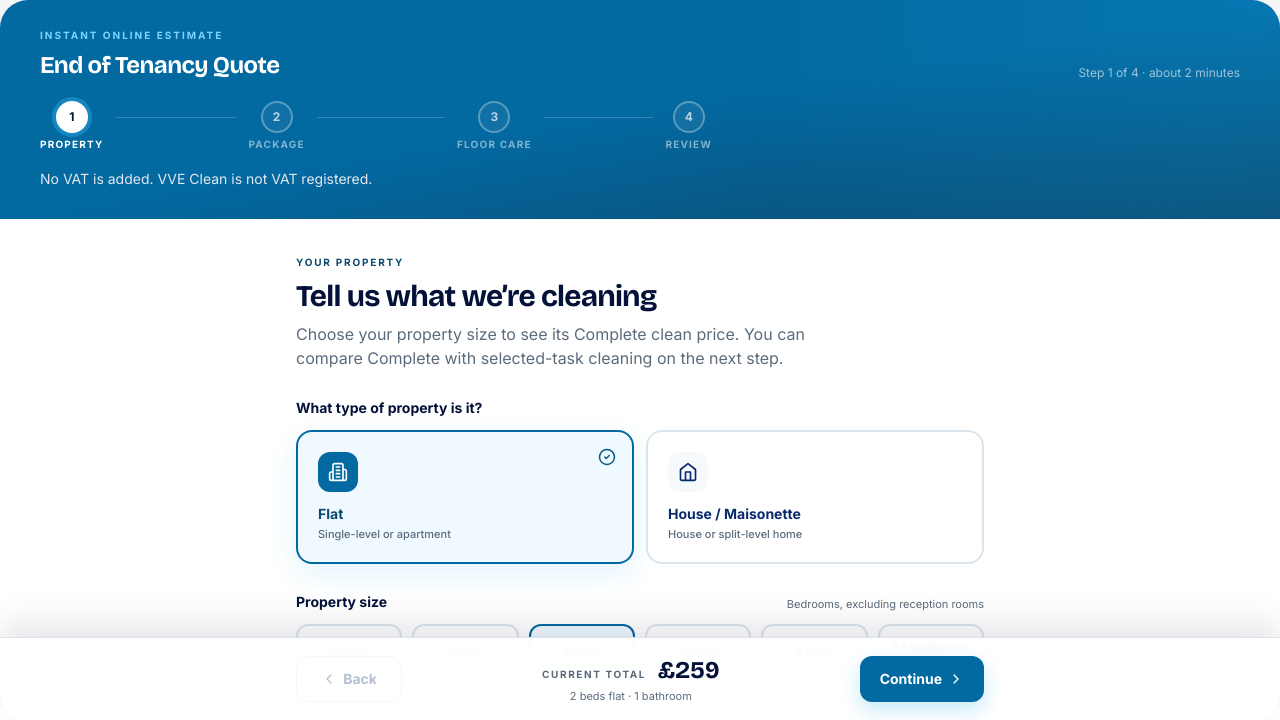
Test: EotQuoteWizard — Step 2: Choose your cleaning package › selecting Tailored keeps the selection obvious — no automatic switch to a different flow
Click the button "Continue".
click(922, 679)  # box [860, 656, 984, 702]
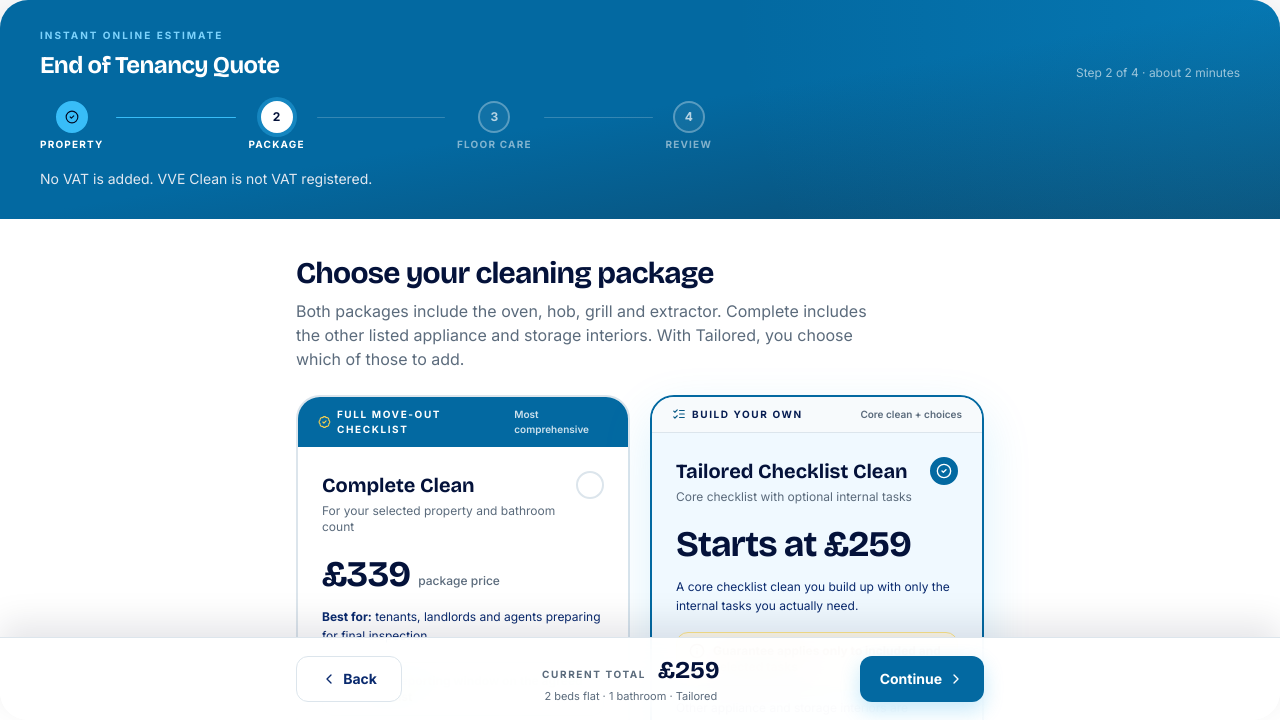
Click the text "Complete Clean".
click(398, 485)  # box [322, 473, 475, 497]
(page scrolled)
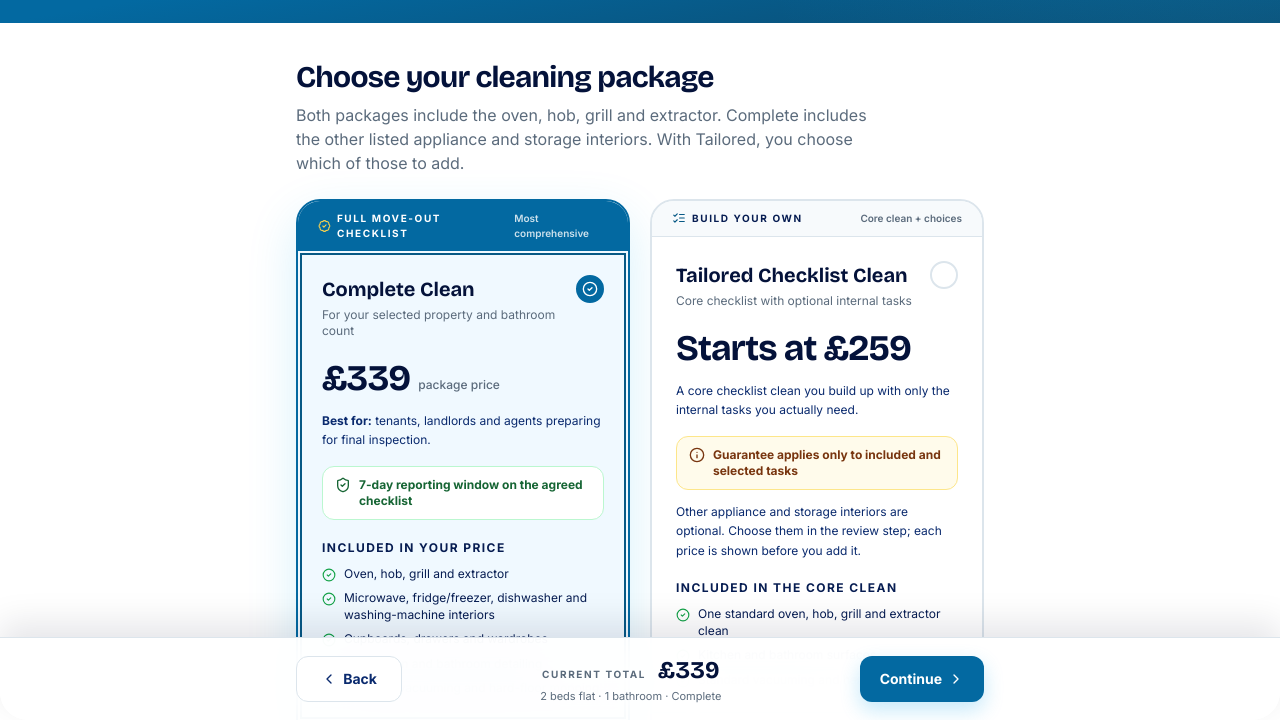
Click the text "Tailored Checklist Clean".
click(794, 275)  # box [676, 261, 912, 289]
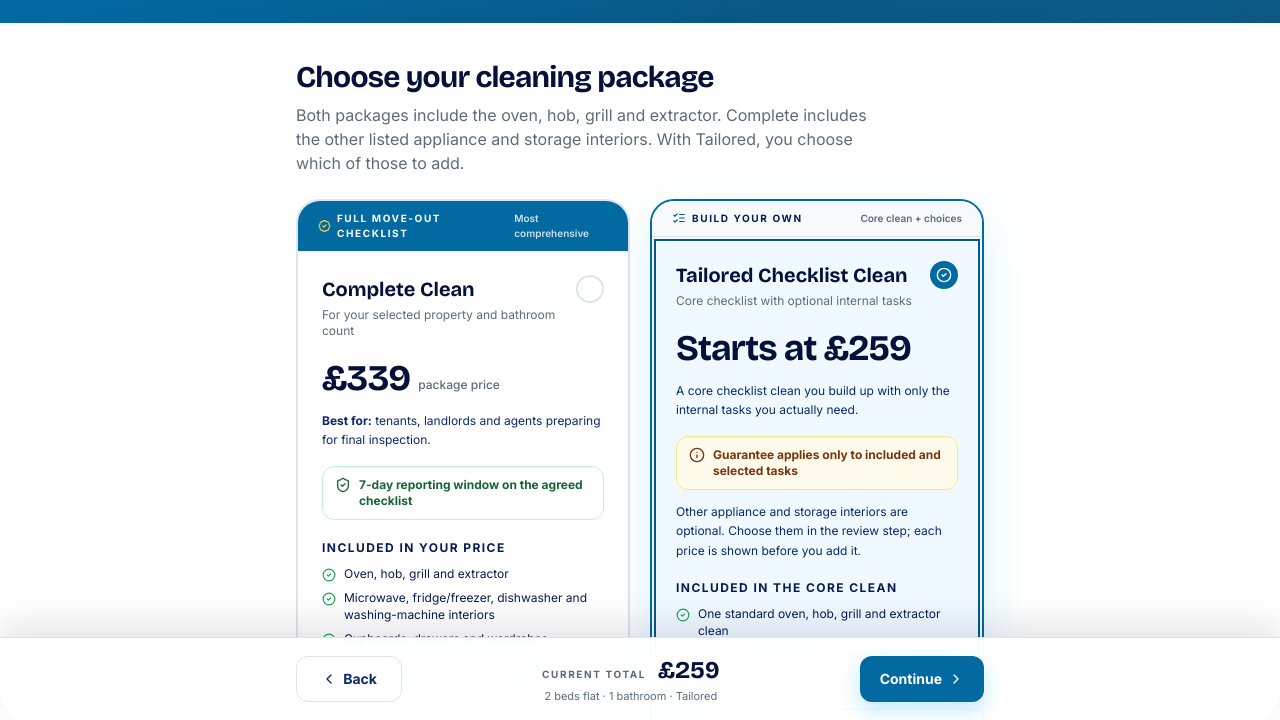
Expected: the text with test id "footer-total" reads "£259", [658, 656, 720, 684]
